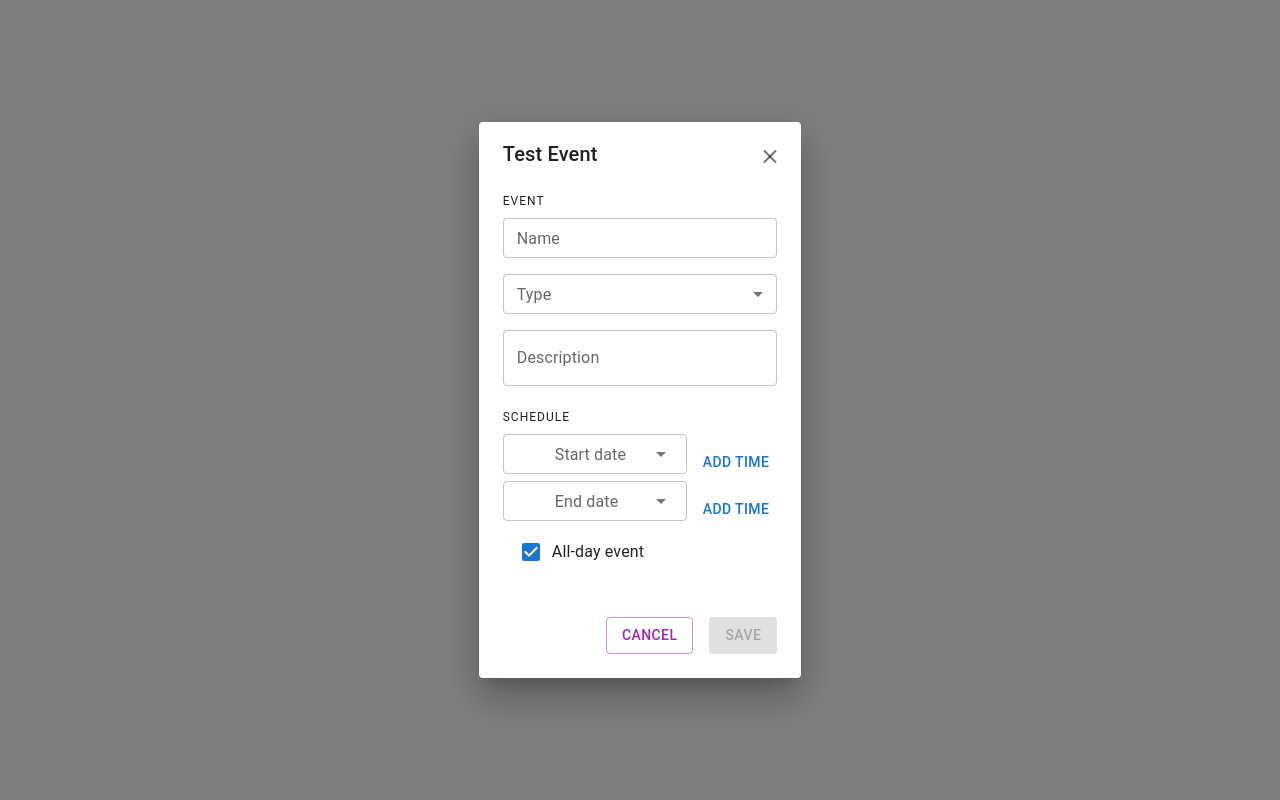
Test case: EventFormModal › should validate form on blur and show errors
# Focus on the input elements and blur to trigger validation
Clear the field with placeholder "Name". click: (640, 238)
box: [503,218,777,258]
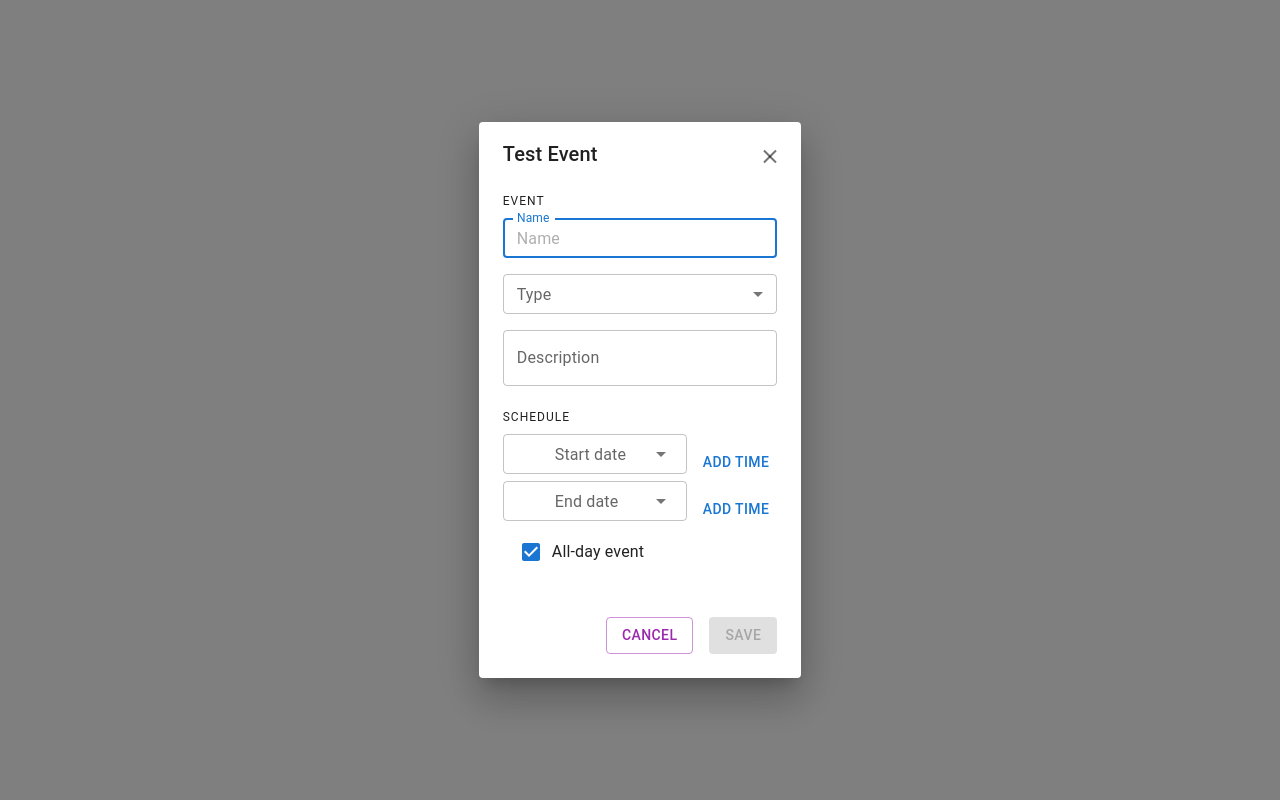
Press Tab
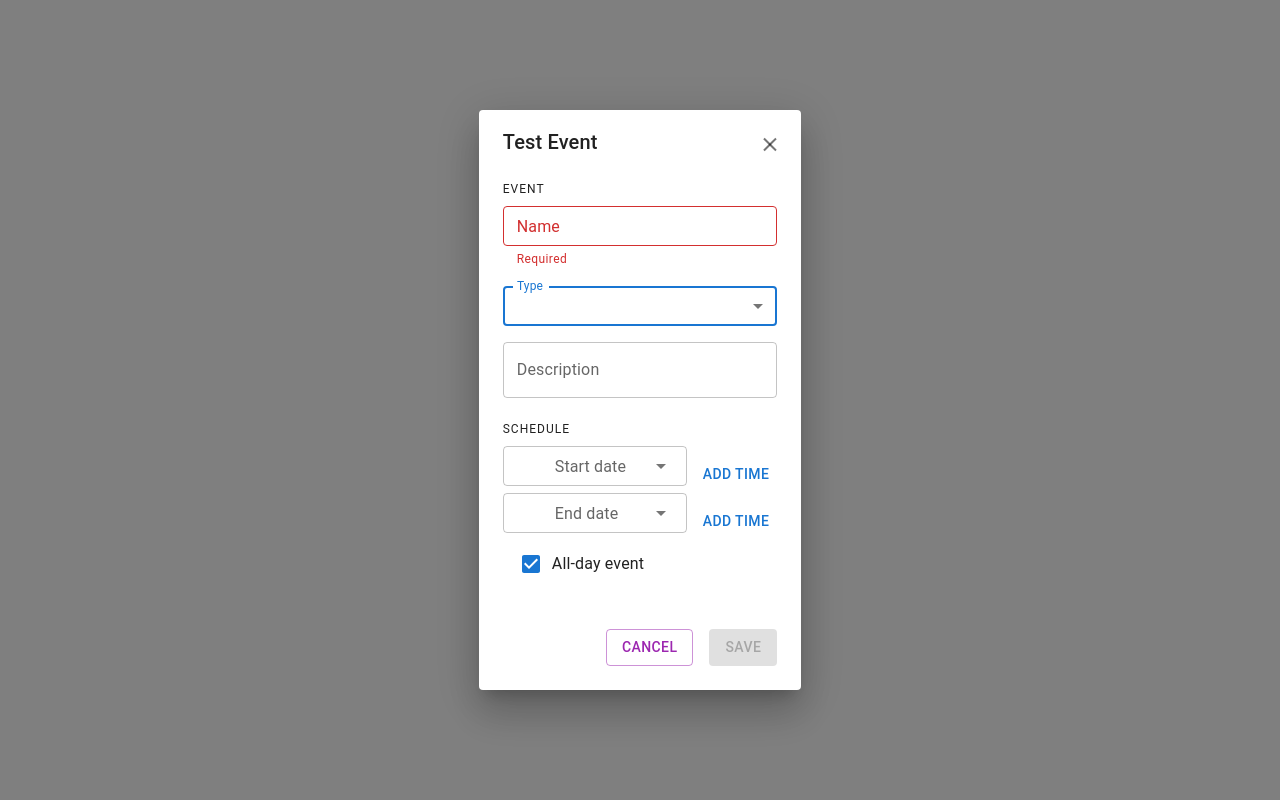
Check: the text "Required" is shown, box [517,252,567,266]
